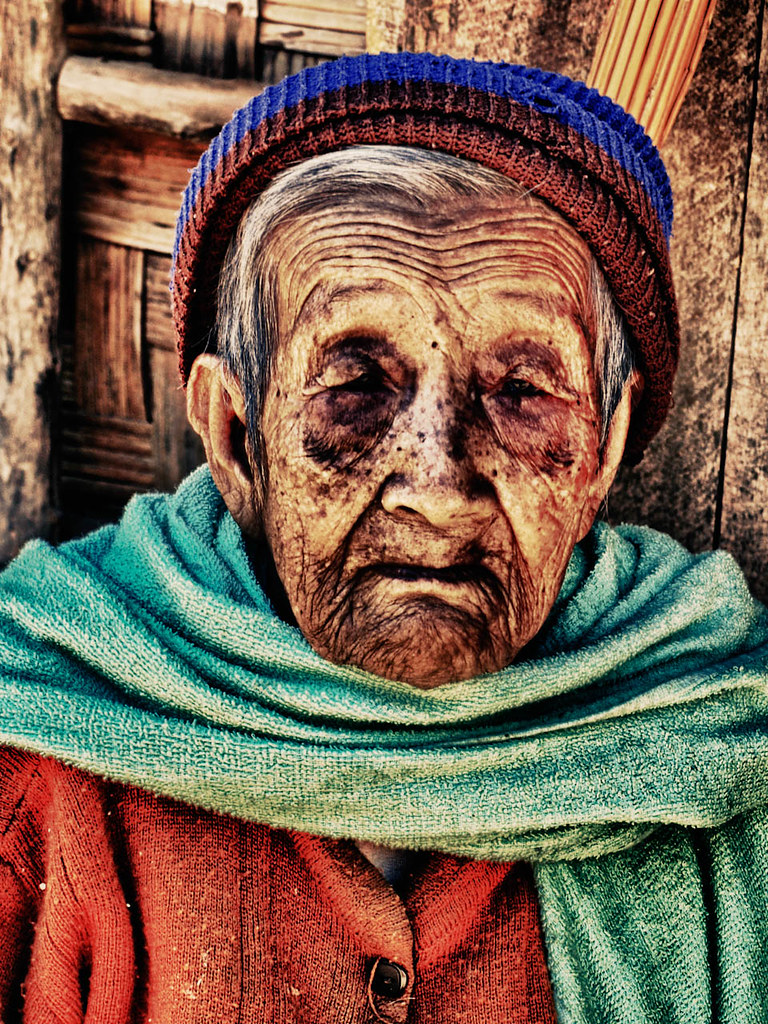human: (3, 51, 768, 1024)
